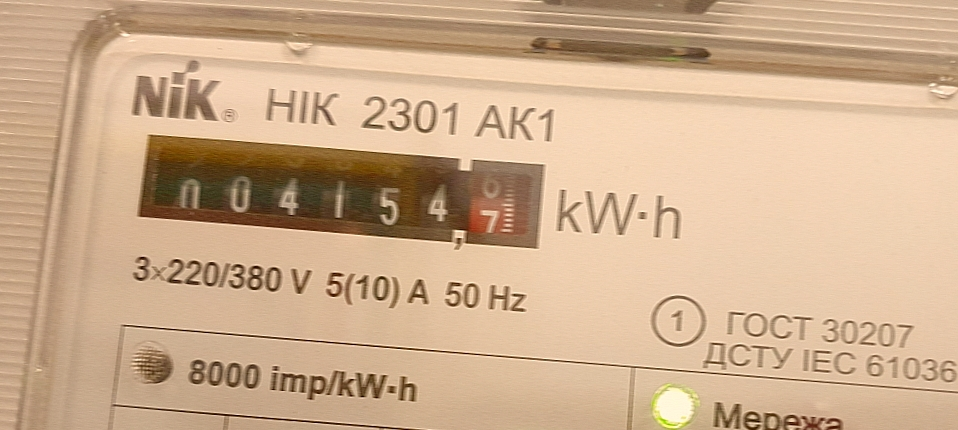0: (226, 172, 252, 215), (176, 173, 202, 209)
1: (330, 177, 347, 220)
4: (275, 174, 302, 217), (425, 179, 449, 224)
5: (375, 181, 403, 227)
6: (479, 169, 503, 200)
7: (476, 205, 499, 235)
screen: (121, 114, 563, 267)
